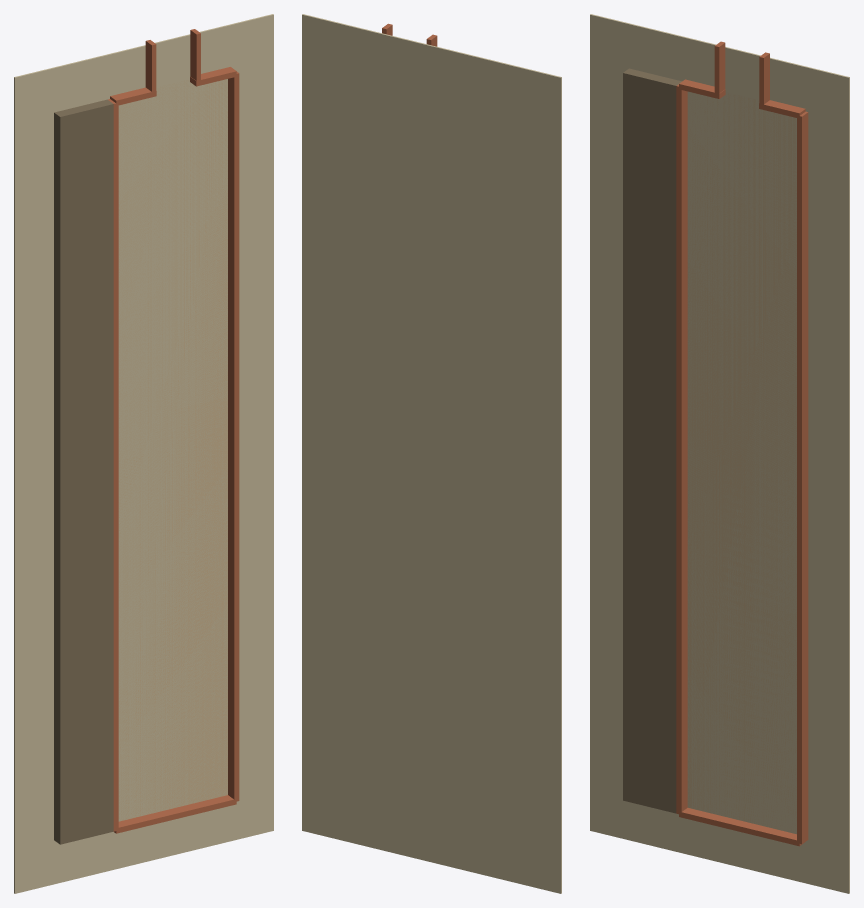
Rendered from lothal-basin.obj.
3 views of the same model, side by side, from view 1: azimuth 30°, elevation 25°; view 2: azimuth 150°, elevation 25°; view 3: azimuth 330°, elevation 25° (orthographic).
Parts seen in each view (by area): view 1: ground_0, basin_1, wharf_9, basin_3, basin_2, basin_4, inlet_7, inlet_8; view 2: ground_0; view 3: ground_0, basin_1, wharf_9, basin_3, basin_2, basin_4, inlet_7, inlet_8.
Boxes of the visible parts, x1,y1,x2,y2 form: ground_0: [14, 14, 273, 893]; basin_1: [118, 79, 227, 821]; wharf_9: [54, 99, 113, 844]; basin_3: [228, 71, 239, 801]; basin_2: [108, 99, 118, 831]; basin_4: [114, 795, 236, 833]; inlet_7: [145, 40, 156, 92]; inlet_8: [190, 29, 200, 80]; ground_0: [302, 14, 561, 893]; ground_0: [590, 14, 849, 893]; basin_1: [687, 92, 796, 833]; wharf_9: [623, 68, 681, 813]; basin_3: [797, 111, 808, 844]; basin_2: [676, 84, 687, 814]; basin_4: [679, 808, 803, 846]; inlet_7: [714, 41, 725, 93]; inlet_8: [759, 52, 769, 104].
Size of the model in its own units: 80 by 242 by 3.8.
